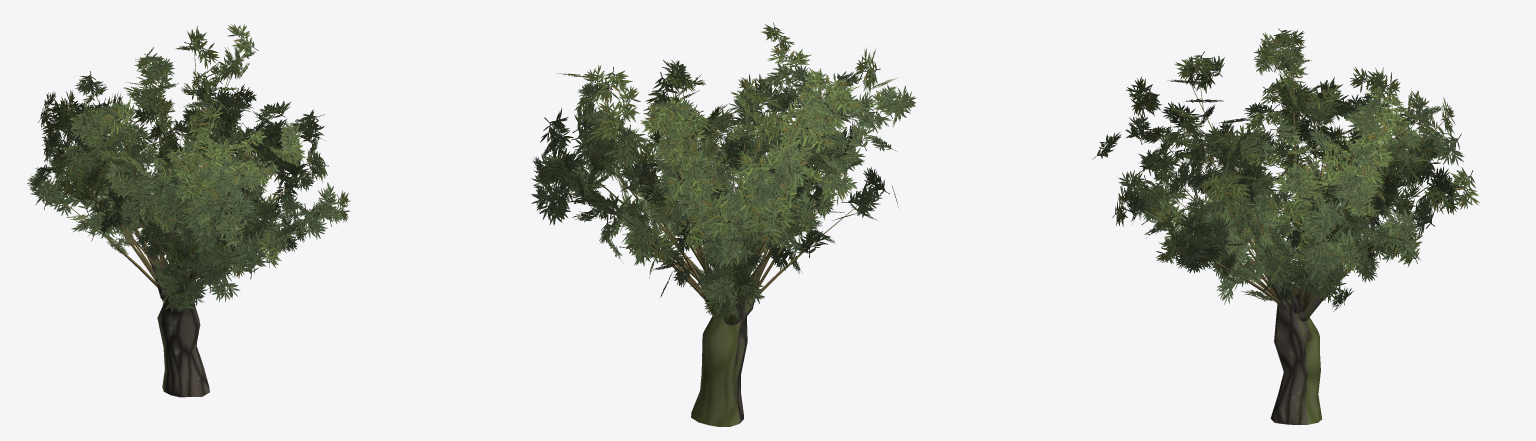
The model's file is willow.glb.
The picture shows the model from 3 angles, left to right: view 1: azimuth 30°, elevation 25°; view 2: azimuth 150°, elevation 25°; view 3: azimuth 270°, elevation 25°; orthographic projection. The views are drawn at different scales.
Visible parts, largest first — view 1: willow_cards_LOD0, willow_LOD0; view 2: willow_cards_LOD0, willow_LOD0; view 3: willow_cards_LOD0, willow_LOD0.
Boxes of the visible parts, <box> form: willow_cards_LOD0: <box>27,24,350,313</box>; willow_LOD0: <box>47,52,318,397</box>; willow_cards_LOD0: <box>531,22,915,321</box>; willow_LOD0: <box>564,54,892,426</box>; willow_cards_LOD0: <box>1092,28,1479,311</box>; willow_LOD0: <box>1134,52,1450,424</box>.
Size of what is drawn, in the model's own units: 10.94 by 9.17 by 10.48.
2 materials, 2 textured.
